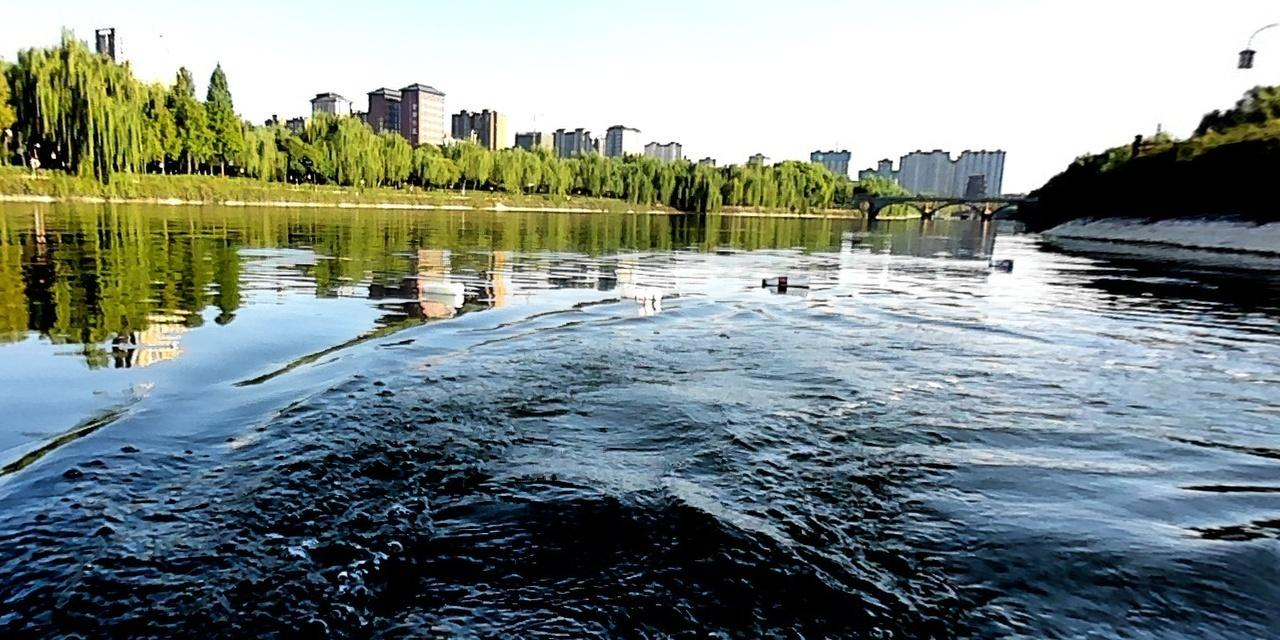bottle: (412, 277, 468, 296), (760, 271, 813, 290), (983, 255, 1016, 270)
